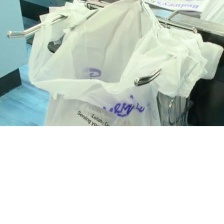plastic_bag: (27, 0, 222, 126)
